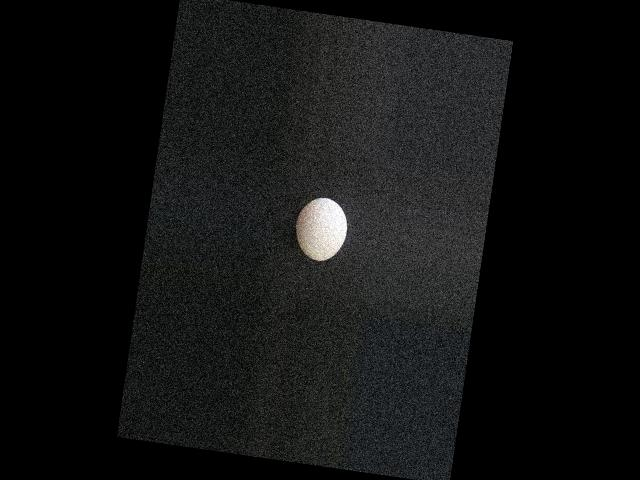egg: (291, 196, 350, 265)
